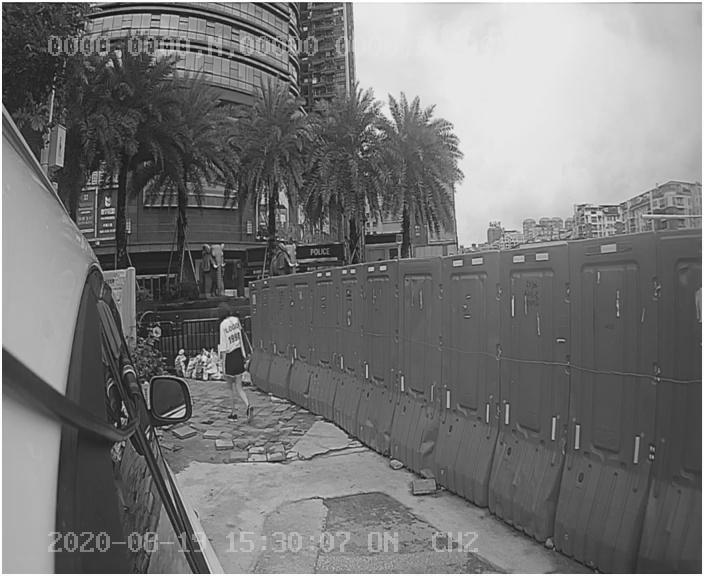person: (203, 299, 270, 431)
